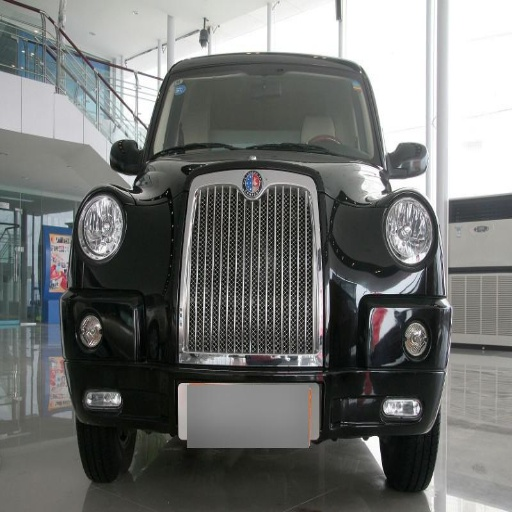front_bumper: (310, 245, 446, 435), (61, 251, 199, 424)
front_right_light: (382, 201, 429, 267)
trunk: (145, 152, 240, 208)
